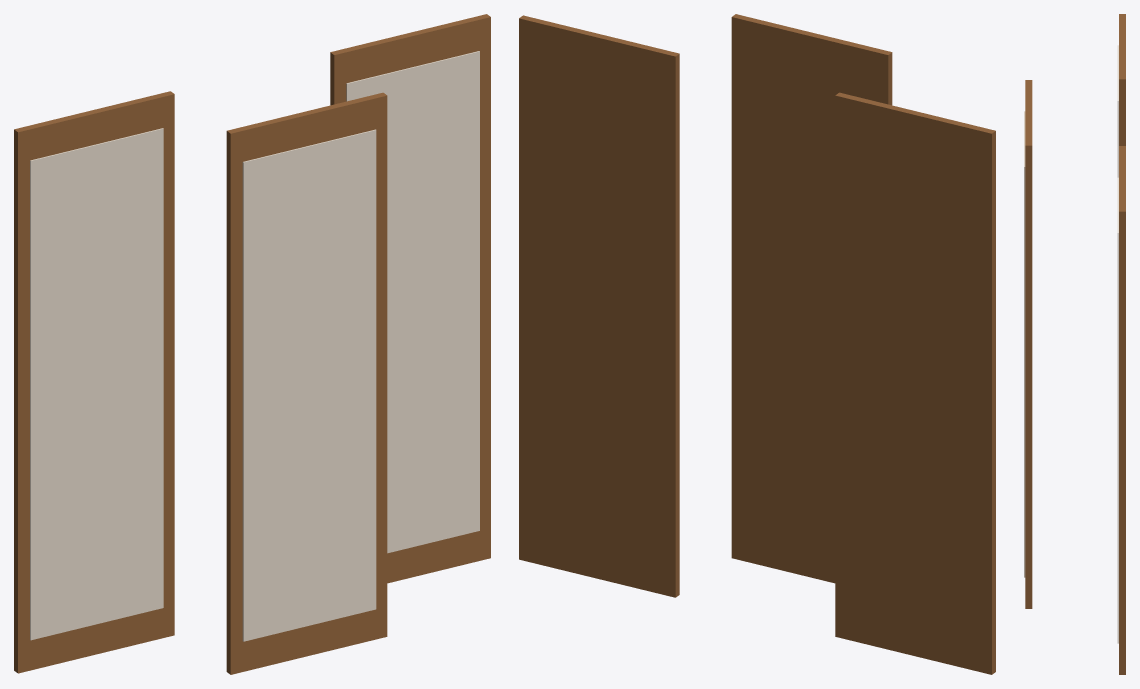
Rendered from screenspan-lite.glb.
3 views of the same model, side by side, from view 1: azimuth 30°, elevation 25°; view 2: azimuth 150°, elevation 25°; view 3: azimuth 270°, elevation 25° (orthographic). The views are drawn at different scales.
Visible parts, largest first — view 1: material-1, material-0; view 2: material-0; view 3: material-0, material-1.
Part boxes in pixels (left/top/right/bottom): material-1: left=30, top=51, right=479, bottom=641; material-0: left=14, top=14, right=490, bottom=674; material-0: left=519, top=14, right=995, bottom=674; material-0: left=1025, top=14, right=1125, bottom=674; material-1: left=1024, top=45, right=1118, bottom=643.
Bounding box in the file's own units: 1.6 × 1.75 × 0.349.
